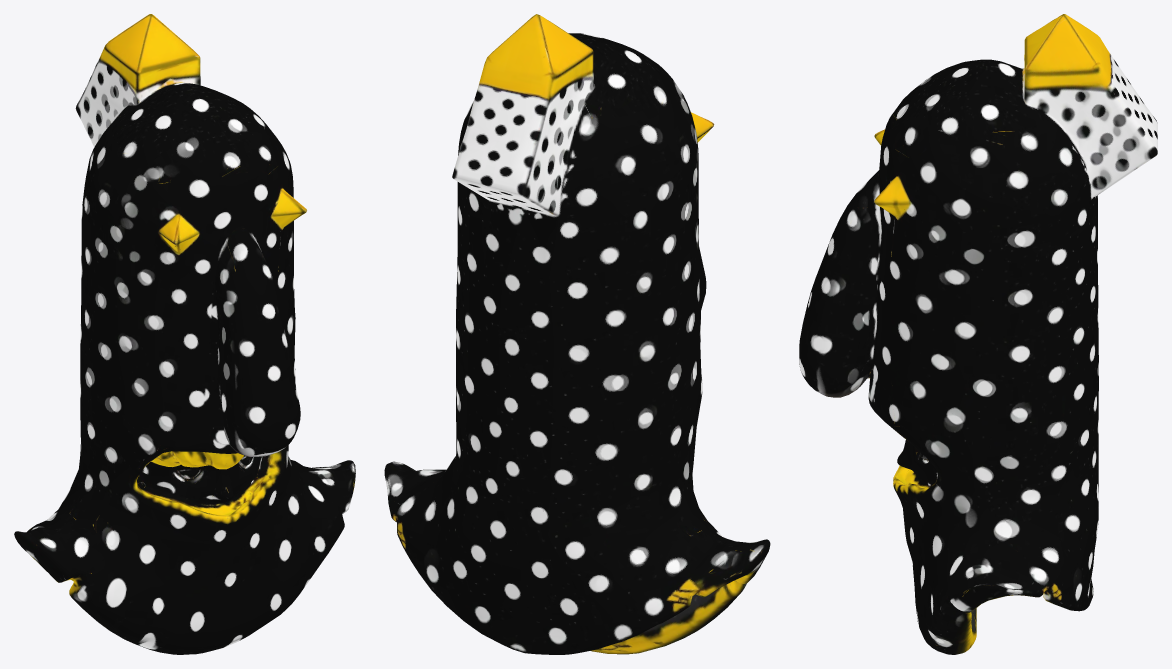
The model's file is drums.glb.
The picture shows the model from 3 angles, left to right: view 1: azimuth 30°, elevation 25°; view 2: azimuth 150°, elevation 25°; view 3: azimuth 270°, elevation 25°; orthographic projection. The views are drawn at different scales.
Visible parts, largest first — view 1: Mesh1.0; view 2: Mesh1.0; view 3: Mesh1.0.
Boxes of the visible parts, x1,y1,x2,y2 form: Mesh1.0: [14, 14, 355, 654]; Mesh1.0: [384, 14, 770, 654]; Mesh1.0: [799, 14, 1157, 654].
Bounding box in the file's own units: 1.12 × 1.91 × 0.9905.
1 material, 1 textured.
